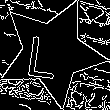L_N: (33, 25, 71, 80)
